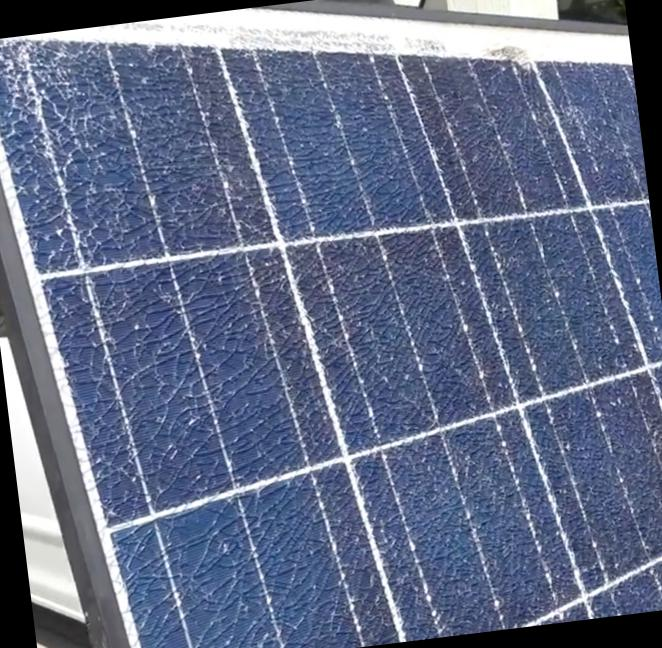Crack: (0, 10, 290, 325), (34, 237, 347, 505), (89, 433, 370, 647), (302, 218, 528, 456), (344, 424, 564, 643), (430, 35, 644, 225), (266, 34, 455, 247), (501, 204, 661, 416), (526, 396, 661, 621)
